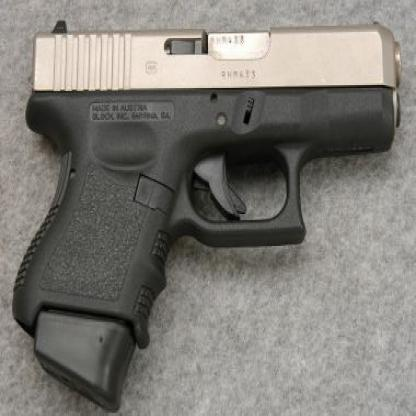Gun: (11, 18, 401, 415)
